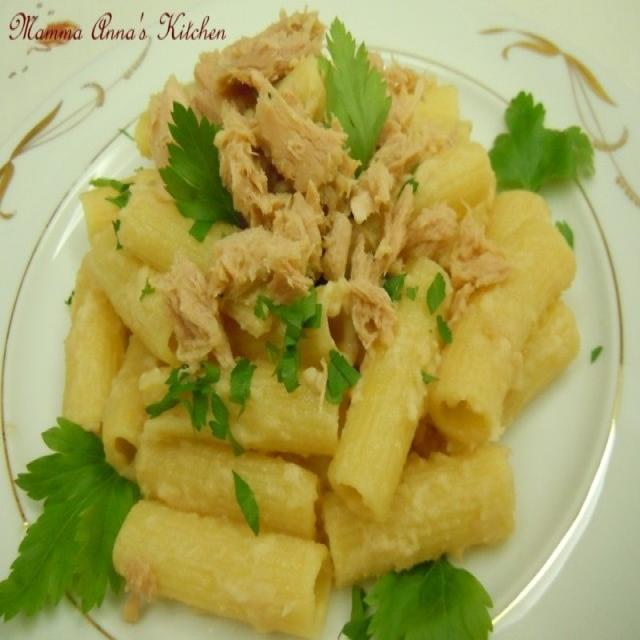Oil pasta: (63, 54, 547, 606)
